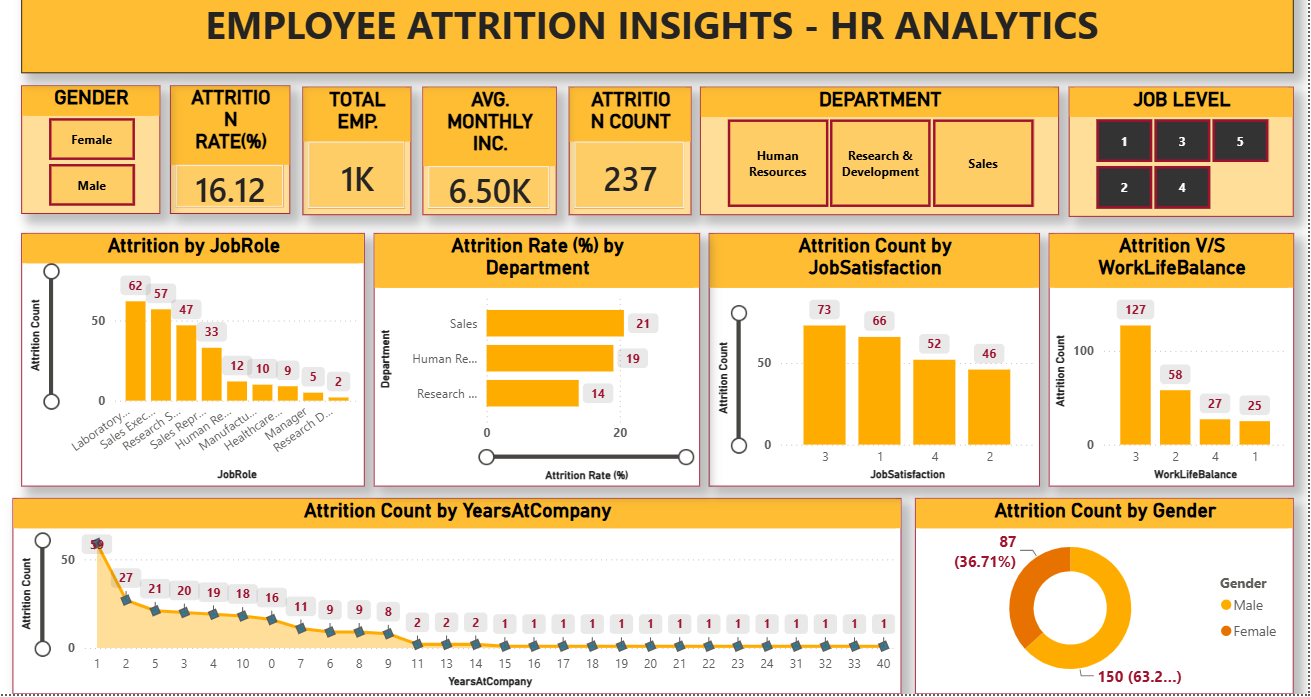

Layout of this report page (visuals, bound fields, positions):
{"tool":"powerbi","page":{"name":"Page 2","canvas":[1280,720],"ordinal":1},"visuals":[{"type":"cardVisual","title":"TOTAL EMP.","fields":{"Data":["WA_Fn-UseC_-HR-Employee-Attrition (1).Total Employees"]},"box":[295.9,126,106.4,126],"z":0},{"type":"cardVisual","title":"ATTRITION COUNT","fields":{"Data":["WA_Fn-UseC_-HR-Employee-Attrition (1).Attrition Count"]},"box":[556.4,126,119.8,126],"z":1000},{"type":"cardVisual","title":"ATTRITION RATE(%)","fields":{"Data":["WA_Fn-UseC_-HR-Employee-Attrition (1).Attrition Rate (%)"]},"box":[166.3,124.7,117.4,126],"z":2000},{"type":"cardVisual","title":"AVG. MONTHLY INC.","fields":{"Data":["WA_Fn-UseC_-HR-Employee-Attrition (1).Average Monthly Income"]},"box":[413.3,126,130.8,126],"z":3000},{"type":"clusteredColumnChart","title":"Attrition by JobRole","fields":{"Category":["WA_Fn-UseC_-HR-Employee-Attrition (1).JobRole"],"Y":["WA_Fn-UseC_-HR-Employee-Attrition (1).Attrition Count"]},"box":[20.8,269,336.3,248.2],"z":4000},{"type":"lineChart","fields":{"Category":["WA_Fn-UseC_-HR-Employee-Attrition (1).YearsAtCompany"],"Y":["WA_Fn-UseC_-HR-Employee-Attrition (1).Attrition Count"]},"box":[12.2,528.3,869.4,192],"z":5000},{"type":"clusteredColumnChart","fields":{"Category":["WA_Fn-UseC_-HR-Employee-Attrition (1).JobSatisfaction"],"Y":["WA_Fn-UseC_-HR-Employee-Attrition (1).Attrition Count"]},"box":[693.3,269,324.1,248.2],"z":6000},{"type":"clusteredColumnChart","title":"Attrition V/S WorkLifeBalance","fields":{"Category":["WA_Fn-UseC_-HR-Employee-Attrition (1).WorkLifeBalance"],"Y":["WA_Fn-UseC_-HR-Employee-Attrition (1).Attrition Count"]},"box":[1026,269,239.7,248.2],"z":7000},{"type":"donutChart","fields":{"Category":["WA_Fn-UseC_-HR-Employee-Attrition (1).Gender"],"Y":["WA_Fn-UseC_-HR-Employee-Attrition (1).Attrition Count"]},"box":[895.1,528.3,370.5,192],"z":8000},{"type":"slicer","title":"DEPARTMENT","fields":{"Values":["WA_Fn-UseC_-HR-Employee-Attrition (1).Department"]},"box":[684.8,126,351,126],"z":9000},{"type":"slicer","title":"GENDER","fields":{"Values":["WA_Fn-UseC_-HR-Employee-Attrition (1).Gender"]},"box":[20.8,124.7,135.7,126],"z":10000},{"type":"textbox","box":[20.8,15.9,1244.8,96.6],"z":11000},{"type":"clusteredBarChart","fields":{"Category":["WA_Fn-UseC_-HR-Employee-Attrition (1).Department"],"Y":["WA_Fn-UseC_-HR-Employee-Attrition (1).Attrition Rate (%)"]},"box":[365.6,269,319.2,248.2],"z":12000},{"type":"slicer","title":"JOB LEVEL","fields":{"Values":["WA_Fn-UseC_-HR-Employee-Attrition (1).JobLevel"]},"box":[1045.5,126,220.1,127.2],"z":13000}]}

Visuals, with their boxes on the page's 1280x720 design canvas (x1, y1, x2, y2). These are canvas units, not pixel positions in the 1311x697 screenshot, which may show the page scaled, cropped or inside an application window:
"TOTAL EMP." cardVisual: bbox(296, 126, 402, 252)
"ATTRITION COUNT" cardVisual: bbox(556, 126, 676, 252)
"ATTRITION RATE(%)" cardVisual: bbox(166, 125, 284, 251)
"AVG. MONTHLY INC." cardVisual: bbox(413, 126, 544, 252)
"Attrition by JobRole" clusteredColumnChart: bbox(21, 269, 357, 517)
lineChart - WA_Fn-UseC_-HR-Employee-Attrition (1).YearsAtCompany x WA_Fn-UseC_-HR-Employee-Attrition (1).Attrition Count: bbox(12, 528, 882, 720)
clusteredColumnChart - WA_Fn-UseC_-HR-Employee-Attrition (1).JobSatisfaction x WA_Fn-UseC_-HR-Employee-Attrition (1).Attrition Count: bbox(693, 269, 1017, 517)
"Attrition V/S WorkLifeBalance" clusteredColumnChart: bbox(1026, 269, 1266, 517)
donutChart - WA_Fn-UseC_-HR-Employee-Attrition (1).Gender x WA_Fn-UseC_-HR-Employee-Attrition (1).Attrition Count: bbox(895, 528, 1266, 720)
"DEPARTMENT" slicer: bbox(685, 126, 1036, 252)
"GENDER" slicer: bbox(21, 125, 156, 251)
textbox: bbox(21, 16, 1266, 112)
clusteredBarChart - WA_Fn-UseC_-HR-Employee-Attrition (1).Department x WA_Fn-UseC_-HR-Employee-Attrition (1).Attrition Rate (%): bbox(366, 269, 685, 517)
"JOB LEVEL" slicer: bbox(1046, 126, 1266, 253)
